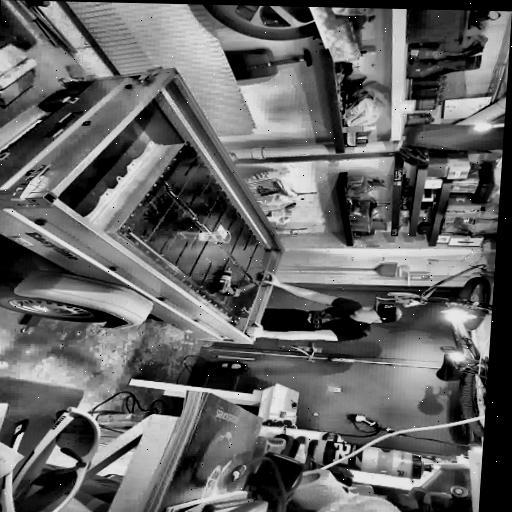b_casing: (117, 142, 266, 324)
